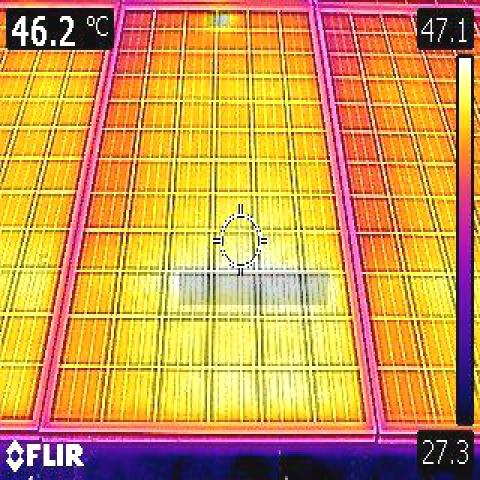fault: (179, 272, 328, 305), (207, 12, 230, 26)
